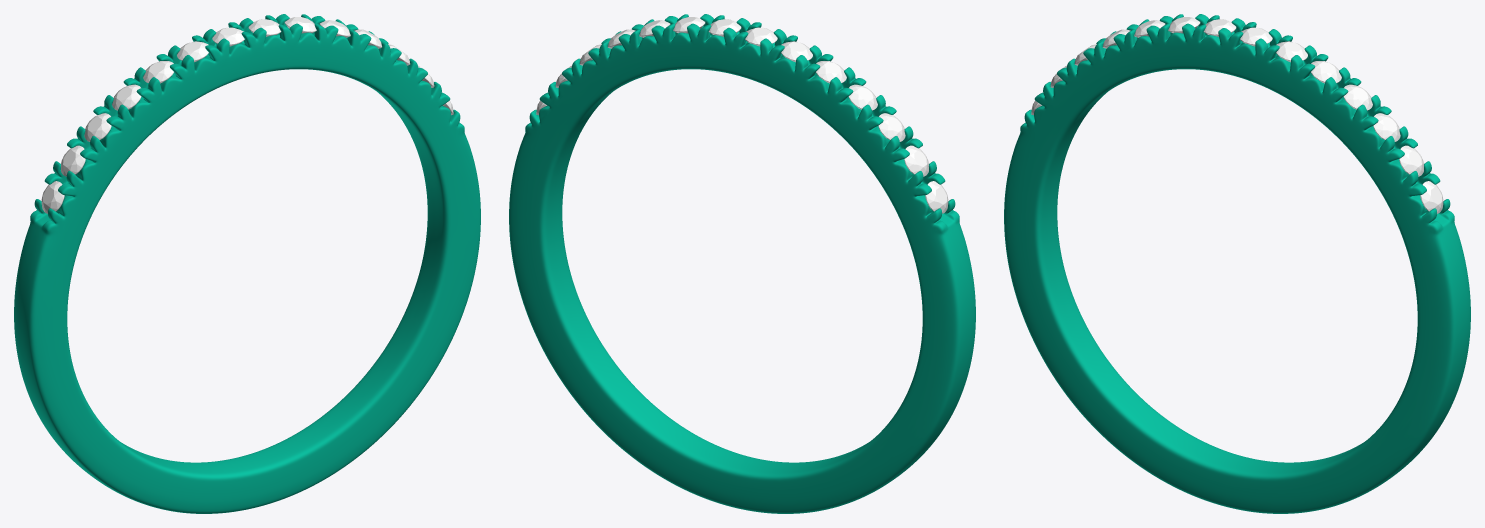
The model's file is BE210_RENDER.glb.
The picture shows the model from 3 angles, left to right: view 1: azimuth 30°, elevation 25°; view 2: azimuth 150°, elevation 25°; view 3: azimuth 330°, elevation 25°; orthographic projection.
Parts seen in each view (by area): view 1: Metal03, Diamond_Round_Gem_BD.007, Diamond_Round_Gem_BD.006, Diamond_Round_Gem_BD.005, Diamond_Round_Gem_BD; view 2: Metal03, Diamond_Round_Gem_BD.007, Diamond_Round_Gem_BD.006, Diamond_Round_Gem_BD.005, Diamond_Round_Gem_BD; view 3: Metal03, Diamond_Round_Gem_BD.013, Diamond_Round_Gem_BD.012, Diamond_Round_Gem_BD.001, Diamond_Round_Gem_BD.011.
Boxes of the visible parts, bbox=[...] form: Metal03: bbox=[14, 14, 480, 513]; Diamond_Round_Gem_BD.007: bbox=[61, 145, 85, 176]; Diamond_Round_Gem_BD.006: bbox=[84, 113, 111, 141]; Diamond_Round_Gem_BD.005: bbox=[112, 84, 141, 110]; Diamond_Round_Gem_BD: bbox=[41, 181, 64, 213]; Metal03: bbox=[509, 14, 975, 513]; Diamond_Round_Gem_BD.007: bbox=[904, 145, 928, 176]; Diamond_Round_Gem_BD.006: bbox=[878, 113, 905, 141]; Diamond_Round_Gem_BD.005: bbox=[848, 84, 877, 110]; Diamond_Round_Gem_BD: bbox=[925, 181, 948, 213]; Metal03: bbox=[1004, 14, 1470, 513]; Diamond_Round_Gem_BD.013: bbox=[1399, 145, 1423, 176]; Diamond_Round_Gem_BD.012: bbox=[1373, 113, 1400, 141]; Diamond_Round_Gem_BD.001: bbox=[1420, 181, 1443, 213]; Diamond_Round_Gem_BD.011: bbox=[1343, 84, 1372, 110].
Bounding box in the file's own units: 19.92 × 20.01 × 1.6.
